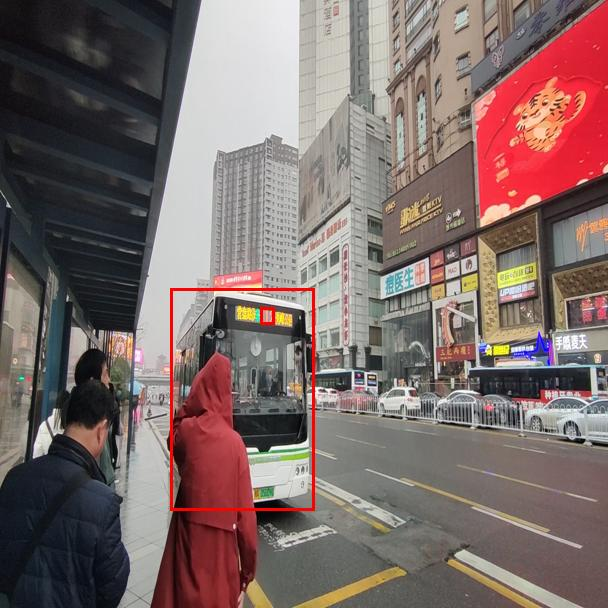bus: (170, 288, 314, 510)
screen: (260, 307, 274, 324)
